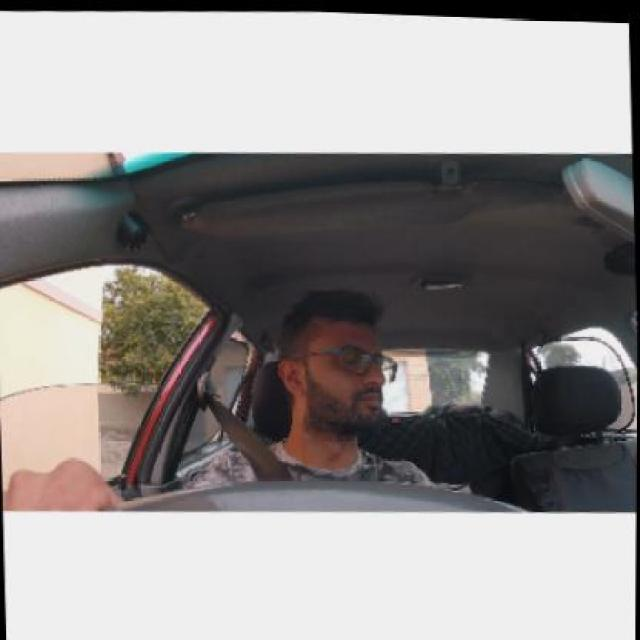drowsy: (277, 285, 398, 446)
